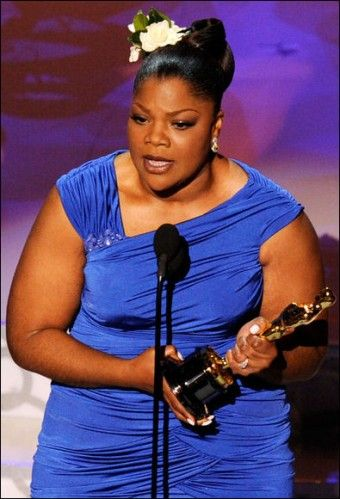hand: (129, 347, 213, 421)
